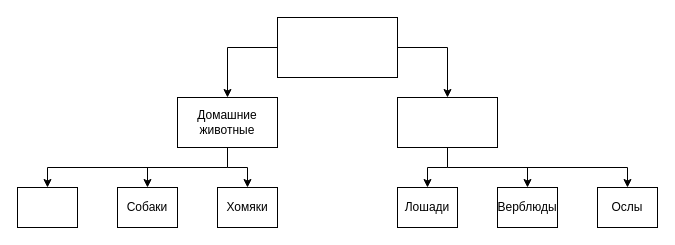
Some shapes in this 675 by 245 pixel diagram are drawn without their labels. Each missing label, with the centre of its shape:
"Вьючные животные" goes at pixel 447 122.
"Животные" goes at pixel 337 47.
"Кошки" goes at pixel 47 207.
